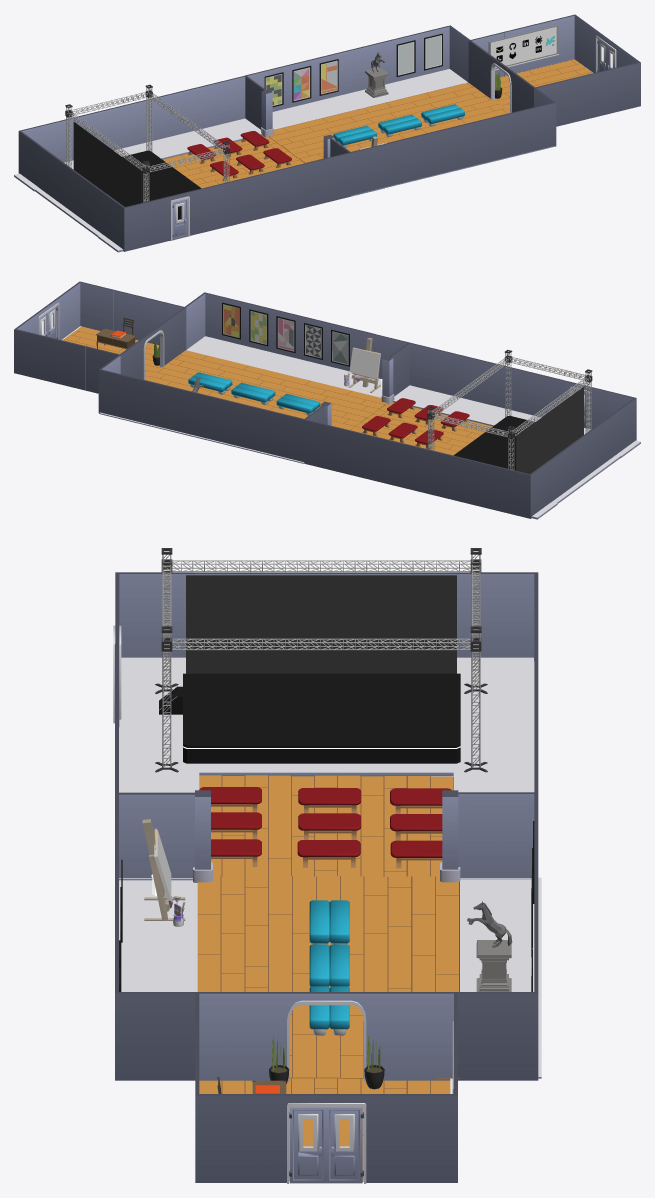
The model's file is Exhibition.glb.
3 renders of one model, top to bottom at view 1: azimuth 30°, elevation 25°; view 2: azimuth 150°, elevation 25°; view 3: azimuth 270°, elevation 25°, orthographic. The views are drawn at different scales.
Visible parts, largest first — view 1: Wall, StageFloor, Stage, Whiteboard, HorseStatue, Tutorial3, Design1, Tutorial2, Design2, Bench3, Bench2, BackDoor (+3 smaller); view 2: Wall, StageFloor, Stage, Easel, Dingjue2, Dingjue3, Dingjue1, Mythos1, Dingjue4, Bench3, Bench1, Bench2 (+2 smaller); view 3: StageFloor, Wall, Stage, EntranceDoor, HorseStatue, Easel, Bench1, Bench3, Bench2, StageBench6, StageBench5, StageBench9 (+6 smaller).
Boxes of the visible parts, bbox=[...] form: Wall: bbox=[18, 14, 640, 251]; StageFloor: bbox=[14, 59, 592, 252]; Stage: bbox=[65, 84, 230, 219]; Whiteboard: bbox=[488, 25, 558, 70]; HorseStatue: bbox=[365, 52, 388, 97]; Tutorial3: bbox=[319, 59, 338, 95]; Design1: bbox=[396, 40, 415, 76]; Tutorial2: bbox=[292, 65, 311, 102]; Design2: bbox=[424, 33, 442, 70]; Bench3: bbox=[378, 114, 421, 137]; Bench2: bbox=[421, 104, 464, 126]; BackDoor: bbox=[172, 199, 187, 239]; Wall: bbox=[14, 281, 636, 518]; StageFloor: bbox=[62, 326, 640, 519]; Stage: bbox=[427, 349, 592, 473]; Easel: bbox=[344, 338, 382, 392]; Dingjue2: bbox=[249, 309, 268, 346]; Dingjue3: bbox=[276, 316, 295, 352]; Dingjue1: bbox=[222, 302, 240, 339]; Mythos1: bbox=[331, 329, 349, 366]; Dingjue4: bbox=[304, 323, 322, 359]; Bench3: bbox=[231, 382, 275, 405]; Bench1: bbox=[276, 393, 320, 415]; Bench2: bbox=[188, 372, 232, 394]; StageFloor: bbox=[119, 657, 541, 1181]; Wall: bbox=[113, 572, 538, 1183]; Stage: bbox=[155, 548, 487, 772]; EntranceDoor: bbox=[289, 1107, 363, 1183]; HorseStatue: bbox=[467, 901, 512, 991]; Easel: bbox=[142, 819, 185, 926]; Bench1: bbox=[309, 900, 349, 944]; Bench3: bbox=[309, 944, 349, 986]; Bench2: bbox=[309, 986, 349, 1035]; StageBench6: bbox=[298, 813, 361, 839]; StageBench5: bbox=[297, 840, 360, 867]; StageBench9: bbox=[298, 788, 361, 813].
Bounding box in the file's own units: 31.29 × 3.97 × 10.69.
Materials: 164 (49 with a texture image).
